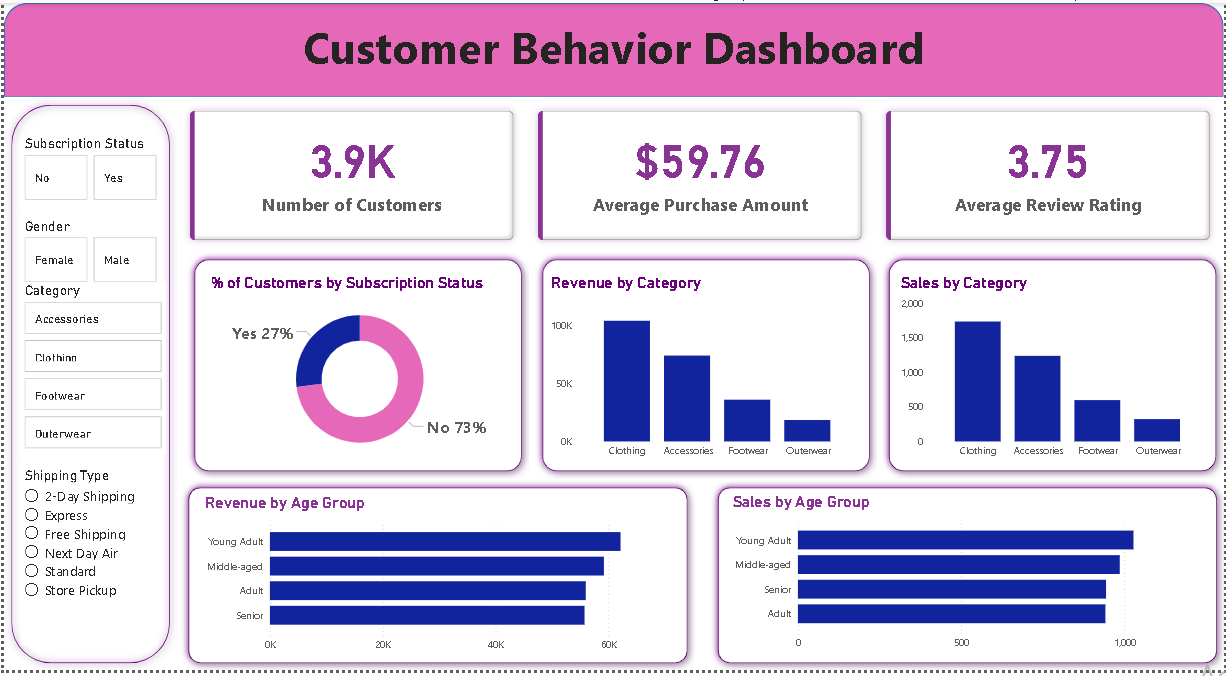

What the dashboard file says about the page in this screenshot:
{"tool":"powerbi","page":{"name":"Page 1","canvas":[1500,820],"ordinal":0},"visuals":[{"type":"cardVisual","fields":{"Data":["public customer.Number of Customers","public customer.Average Purchase Amount","public customer.Average Review Rating"]},"box":[212.9,115.3,1286.5,191.6],"z":2000},{"type":"shape","box":[218.3,585.6,631.7,234.2],"z":2500,"group":"g1"},{"type":"shape","box":[0,0,1499.4,115.3],"z":3000},{"type":"textbox","box":[0,12.4,1499.4,102.9],"z":4000},{"type":"shape","box":[225.4,307,420.5,278.6],"z":5000},{"type":"donutChart","title":"% of Customers by Subscription Status","fields":{"Category":["public customer.subscription_status"],"Y":["CountNonNull(public customer.customer_id)"]},"box":[248.4,331.8,376.2,237.8],"z":6000},{"type":"shape","box":[1078.9,307,420.5,278.6],"z":7000},{"type":"shape","box":[652.1,307,420.5,278.6],"z":8000},{"type":"clusteredColumnChart","title":"Revenue by Category","fields":{"Y":["Sum(public customer.purchase_amount)"],"Category":["public customer.category"]},"box":[667.2,331.8,385.1,237.8],"z":9000},{"type":"clusteredColumnChart","title":"Sales by Category","fields":{"Y":["CountNonNull(public customer.customer_id)"],"Category":["public customer.category"]},"box":[1096.6,331.8,385.1,237.8],"z":10000},{"type":"shape","box":[0,115.3,212.9,704.5],"z":11000},{"type":"advancedSlicerVisual","fields":{"Values":["public customer.subscription_status"]},"box":[19.5,161.5,173.9,85.2],"z":12000},{"type":"advancedSlicerVisual","fields":{"Values":["public customer.gender"]},"box":[19.5,264.4,173.9,85.2],"z":13000},{"type":"advancedSlicerVisual","fields":{"Values":["public customer.category"]},"box":[20.3,343,178.9,212.1],"z":14000},{"type":"listSlicer","fields":{"Values":["public customer.shipping_type"]},"box":[19.5,569.6,168.6,220],"z":15000},{"type":"shape","box":[867.7,585.6,631.7,234.2],"z":16000},{"type":"clusteredBarChart","title":"Sales by Age Group","fields":{"Y":["CountNonNull(public customer.customer_id)"],"Category":["public customer.age_group"]},"box":[890.8,601.5,585.6,204.1],"z":17000},{"type":"clusteredBarChart","title":"Revenue by Age Group","fields":{"Y":["Sum(public customer.purchase_amount)"],"Category":["public customer.age_group"]},"box":[241.4,601.6,585.6,204.1],"z":17500,"group":"g1"},{"type":"group","id":"g1","title":"Group 1","box":[218.3,585.6,631.7,234.2],"z":17501}]}

Visuals, with their boxes in screenshot pixels (x1, y1, x2, y2), scaled from the page's 1500x820 canvas onto the 1226x676 screenshot:
cardVisual - public customer.Number of Customers x public customer.Average Purchase Amount: bbox=(174, 95, 1225, 253)
shape: bbox=(178, 483, 695, 675)
shape: bbox=(0, 0, 1225, 95)
textbox: bbox=(0, 10, 1225, 95)
shape: bbox=(184, 253, 528, 483)
"% of Customers by Subscription Status" donutChart: bbox=(203, 274, 511, 470)
shape: bbox=(882, 253, 1225, 483)
shape: bbox=(533, 253, 877, 483)
"Revenue by Category" clusteredColumnChart: bbox=(545, 274, 860, 470)
"Sales by Category" clusteredColumnChart: bbox=(896, 274, 1211, 470)
shape: bbox=(0, 95, 174, 675)
advancedSlicerVisual - public customer.subscription_status: bbox=(16, 133, 158, 203)
advancedSlicerVisual - public customer.gender: bbox=(16, 218, 158, 288)
advancedSlicerVisual - public customer.category: bbox=(17, 283, 163, 458)
listSlicer - public customer.shipping_type: bbox=(16, 470, 154, 651)
shape: bbox=(709, 483, 1225, 675)
"Sales by Age Group" clusteredBarChart: bbox=(728, 496, 1207, 664)
"Revenue by Age Group" clusteredBarChart: bbox=(197, 496, 676, 664)
"Group 1" group: bbox=(178, 483, 695, 675)
